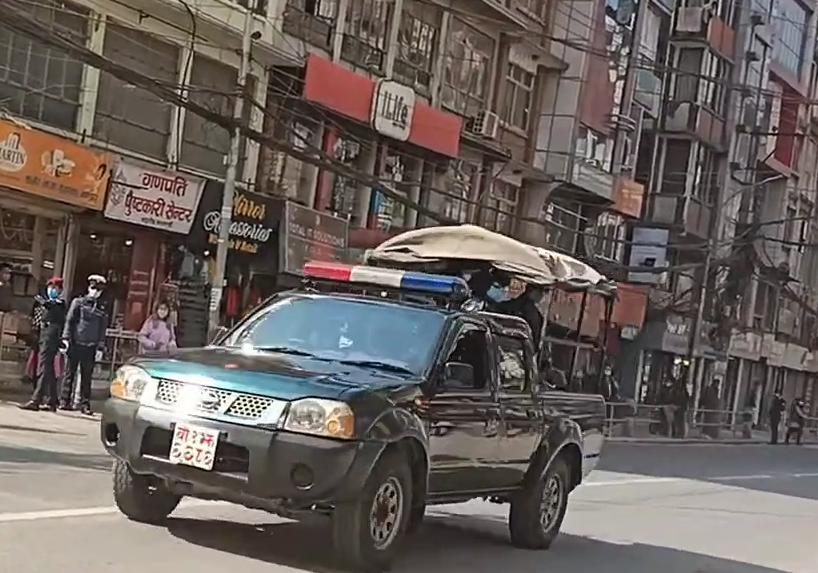police_vehicle: (99, 219, 617, 573)
